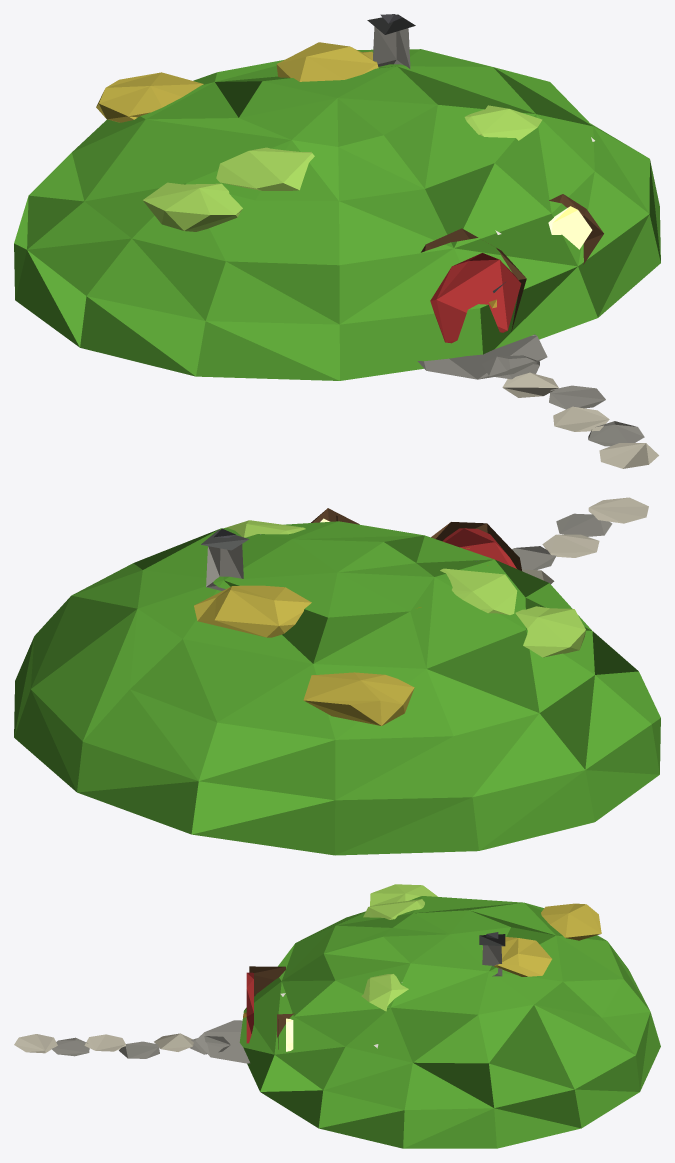
Rendered from hobbit_hole_2_lod1.glb.
3 renders of one model, top to bottom at view 1: azimuth 30°, elevation 25°; view 2: azimuth 150°, elevation 25°; view 3: azimuth 270°, elevation 25°, orthographic. The views are drawn at different scales.
Parts seen in each view (by area): view 1: hobbit_hole_2_lod1; view 2: hobbit_hole_2_lod1; view 3: hobbit_hole_2_lod1.
Part boxes in pixels (x1=…): hobbit_hole_2_lod1: x1=14, y1=14, x2=660, y2=468; hobbit_hole_2_lod1: x1=14, y1=497, x2=660, y2=855; hobbit_hole_2_lod1: x1=14, y1=884, x2=660, y2=1148.
Bounding box in the file's own units: 13.26 × 4.27 × 17.73.
